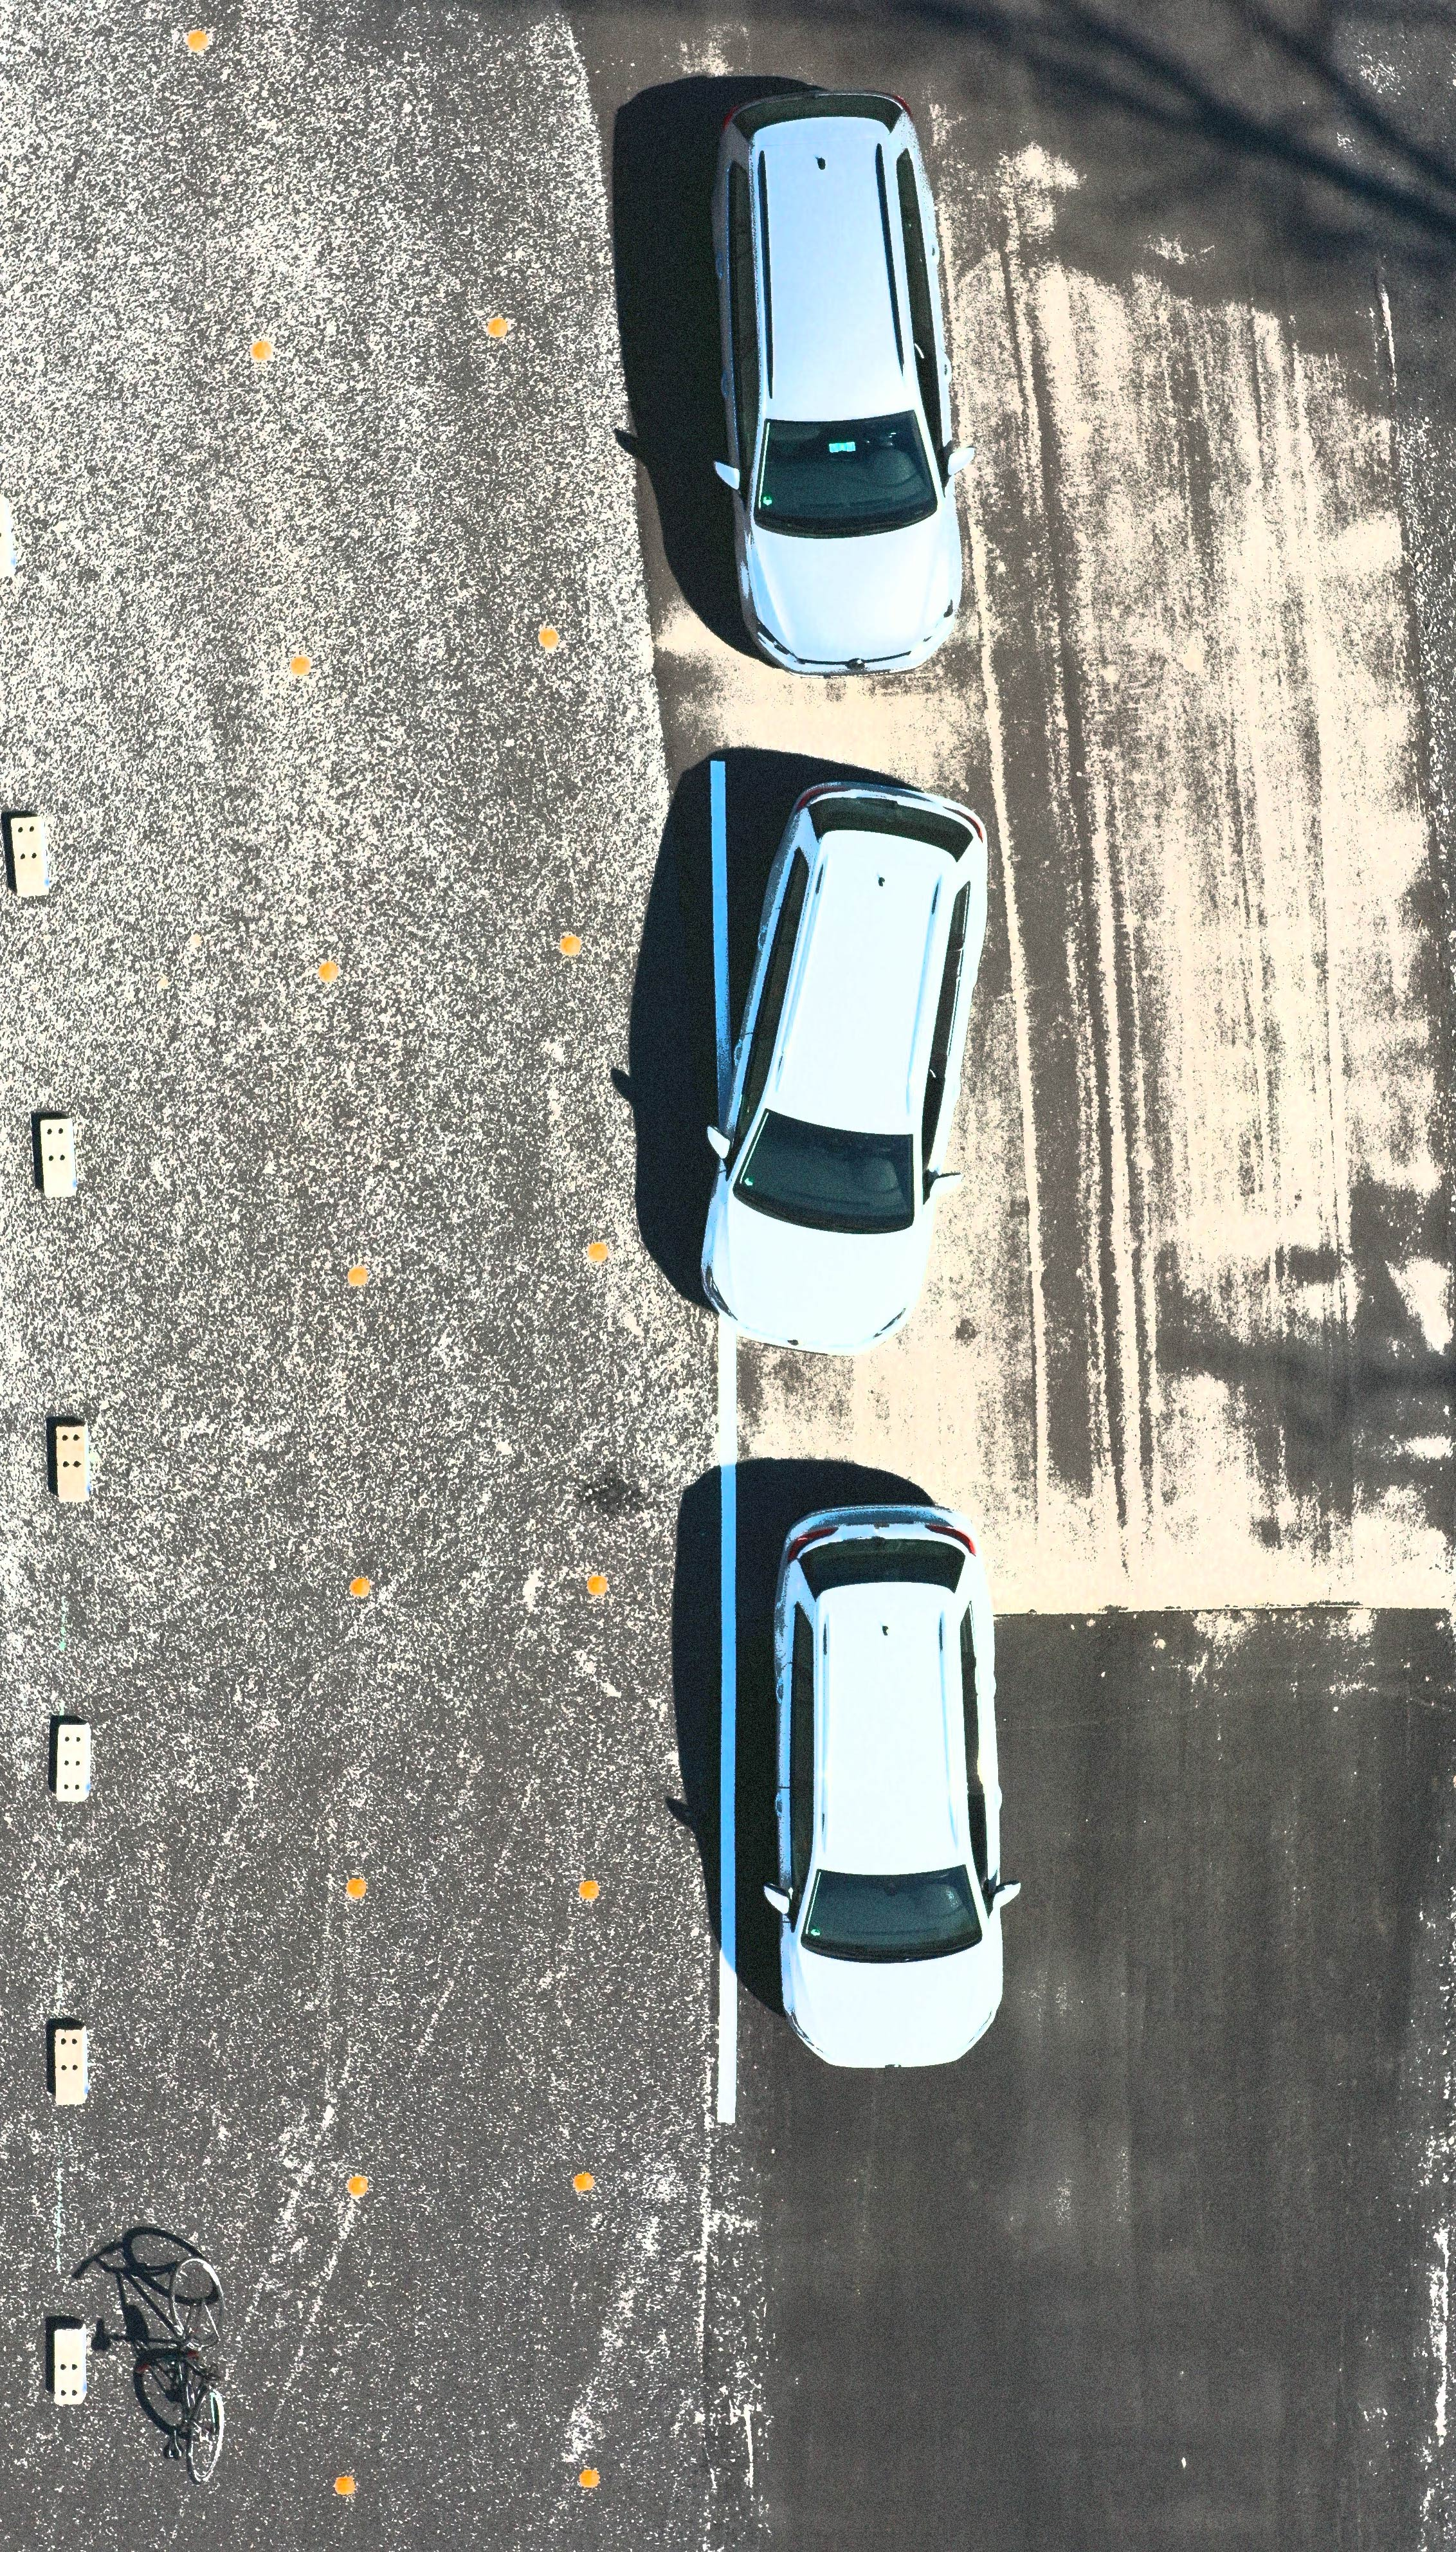Car: (687, 768, 1013, 1353), (687, 84, 969, 694), (745, 1479, 1018, 2098)
LaneMark: (706, 1355, 746, 2131), (708, 757, 732, 1062)
